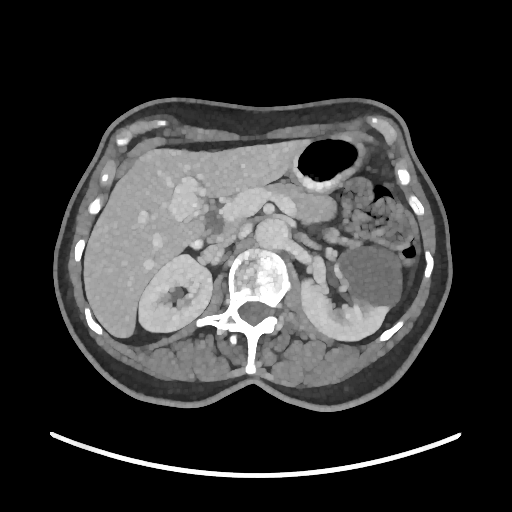Lesion: (330, 240, 406, 308)
